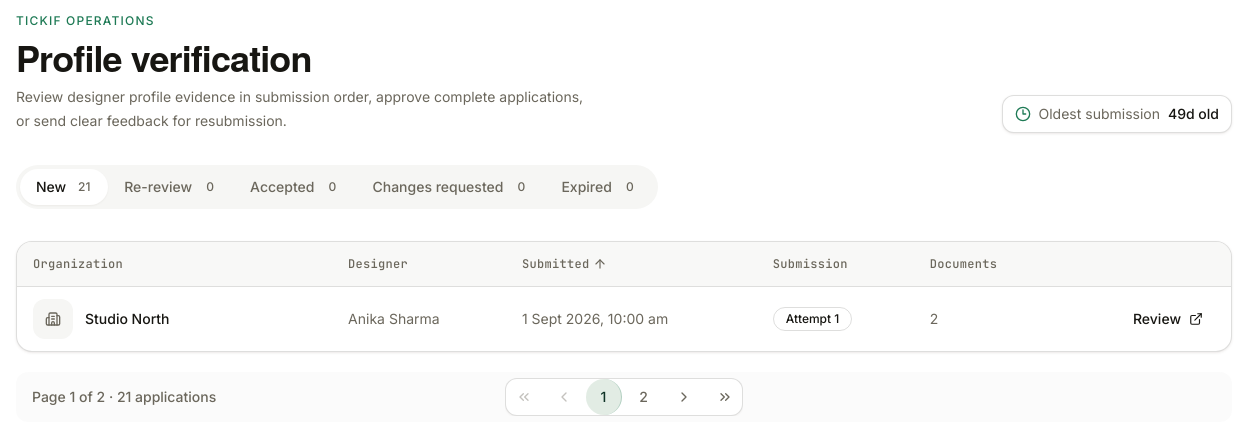
Scenario: AdminVerificationQueue › moves forward and backward through a multi-page lifecycle queue
The image size is (1249, 433).
Expected: the text "Page 1 of 2 · 21 applications" is shown, x1=32 y1=386 x2=216 y2=406
Expected: the button named "Previous page" is disabled, x1=546 y1=378 x2=582 y2=414
Click the button named "Next page".
click(684, 396)  # box x1=666 y1=378 x2=702 y2=414
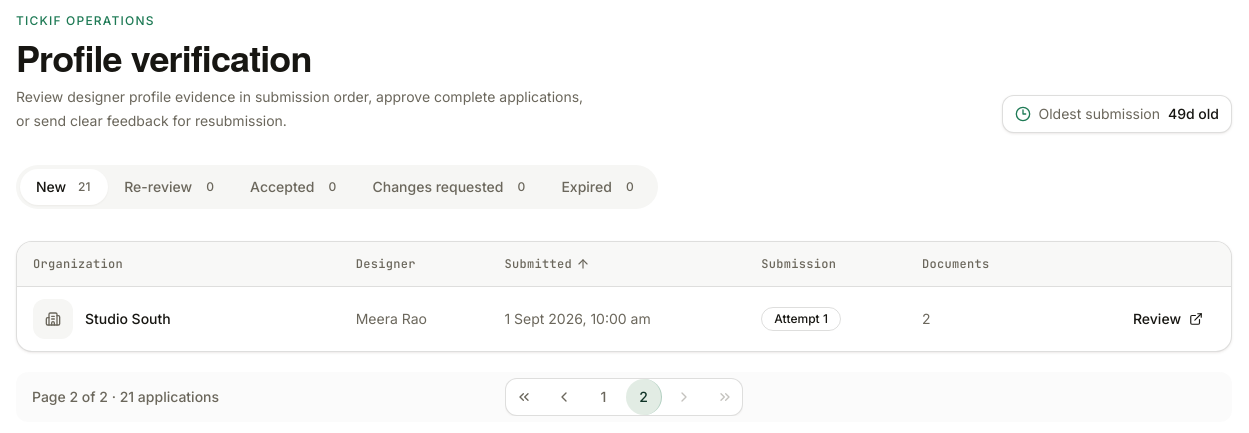
Now the text "Studio South" is shown, box x1=85 y1=308 x2=171 y2=328
Now the text "Page 2 of 2 · 21 applications" is shown, box x1=32 y1=386 x2=219 y2=406
Click the button named "Previous page".
click(564, 396)  # box x1=546 y1=378 x2=582 y2=414
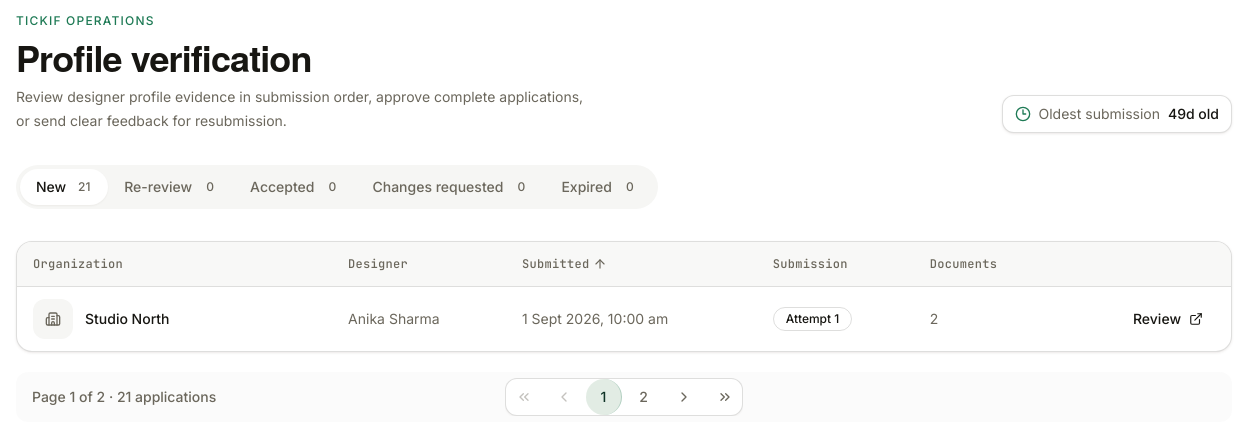
Now the text "Studio North" is shown, box x1=85 y1=308 x2=170 y2=328
Now the text "Page 1 of 2 · 21 applications" is shown, box x1=32 y1=386 x2=216 y2=406
